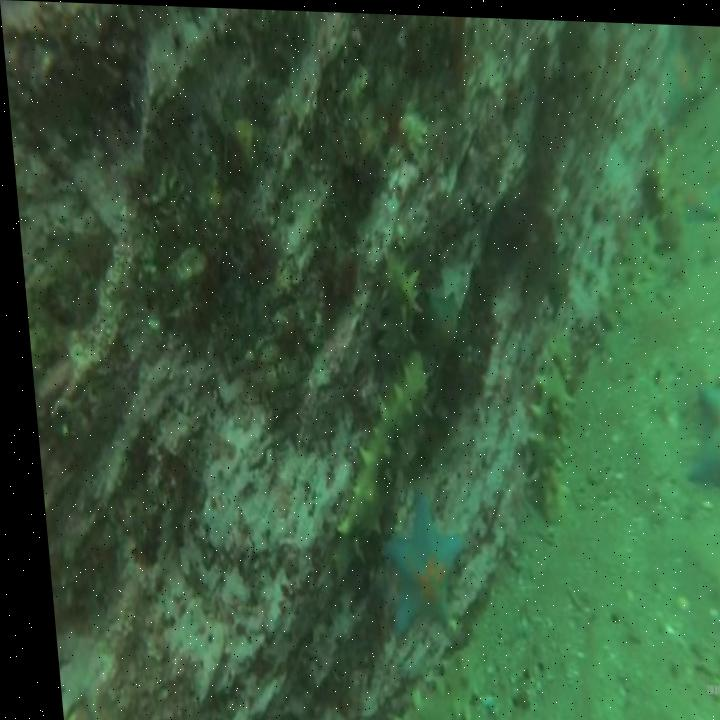holothurian: (316, 336, 433, 545), (514, 333, 571, 522), (586, 200, 662, 330), (371, 243, 422, 335)
starfish: (367, 476, 465, 638), (678, 369, 720, 537), (420, 282, 459, 354), (676, 169, 720, 227), (656, 37, 699, 93)
